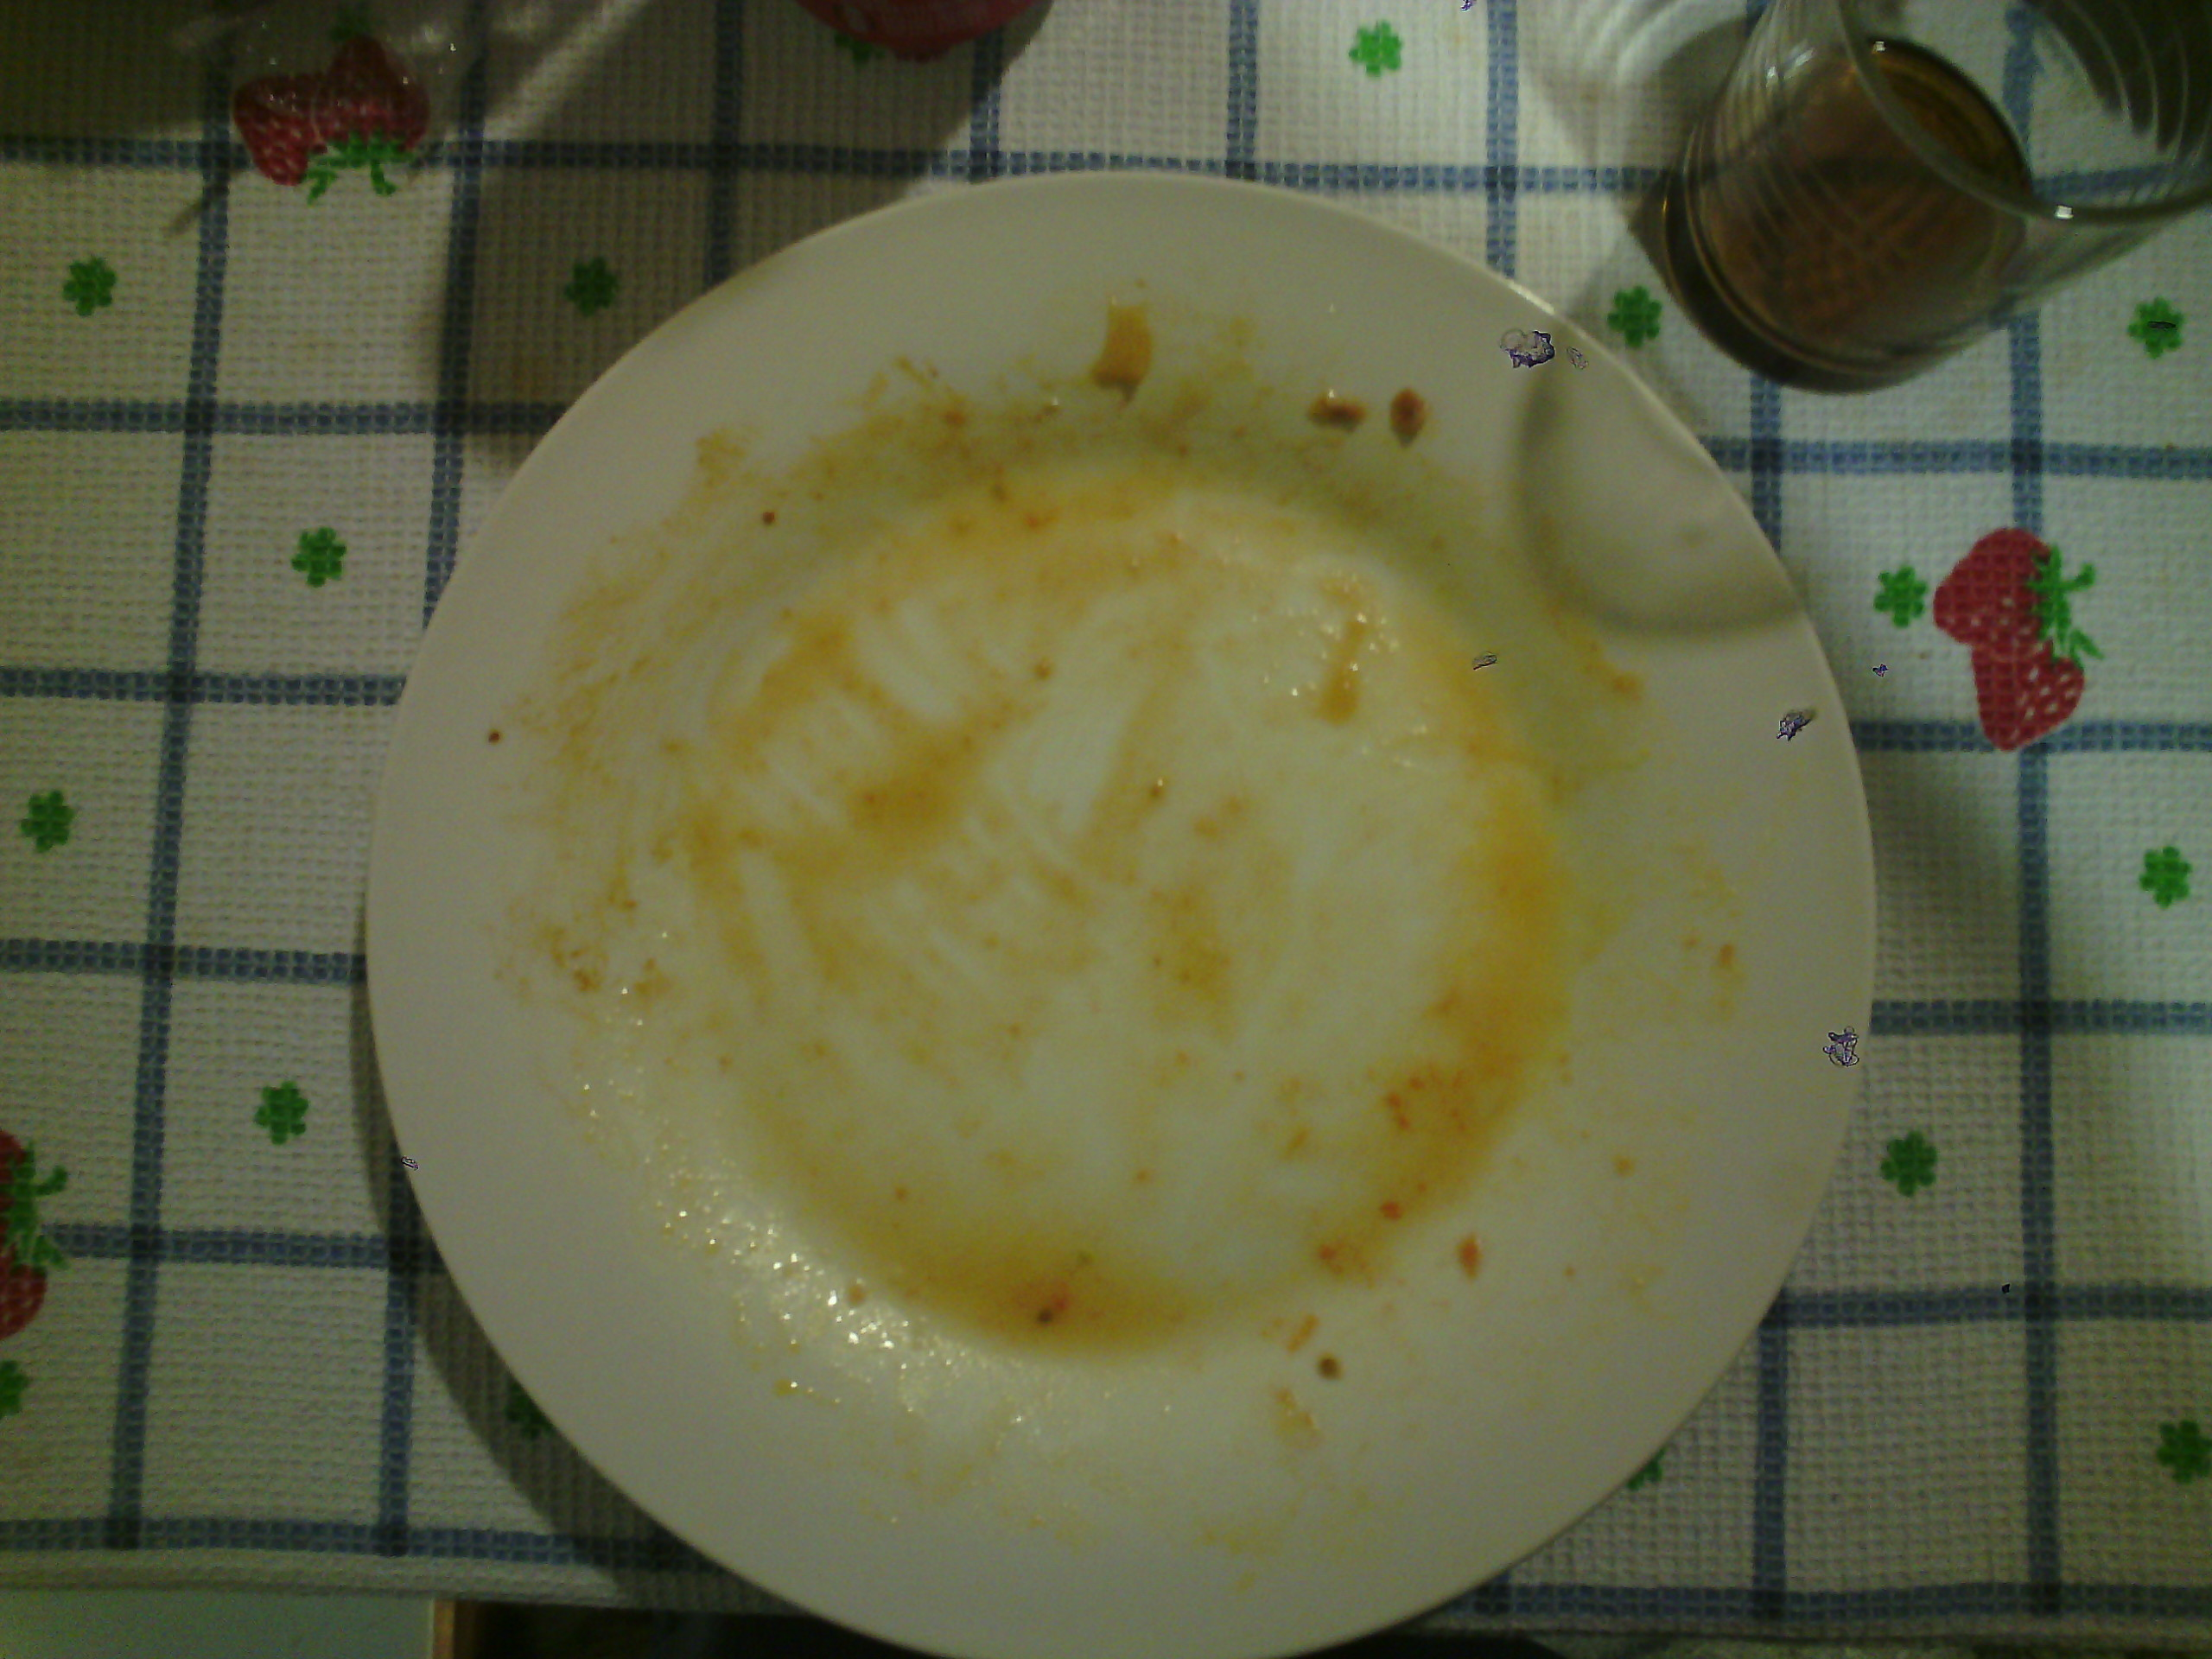0-20: (385, 171, 1874, 1659)
